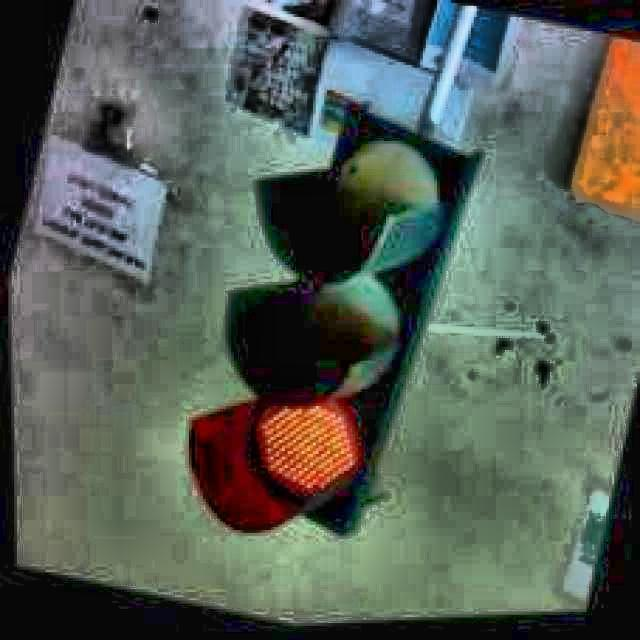red: (222, 115, 464, 534)
